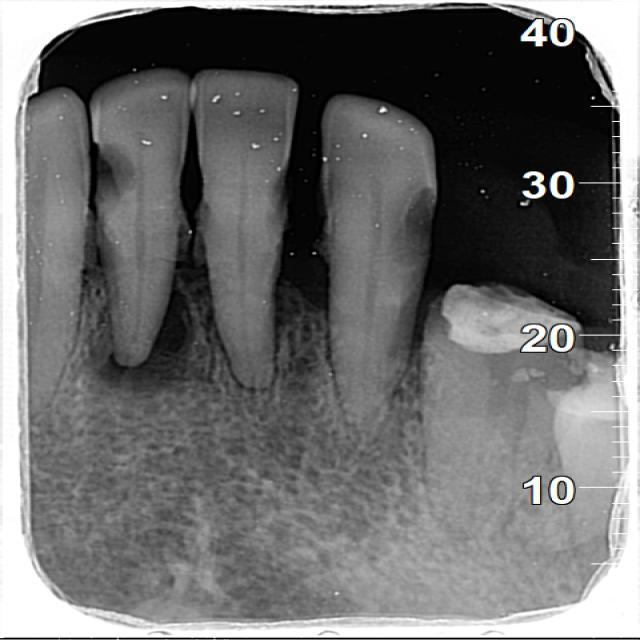individual-tooth-8tto: (325, 97, 439, 424), (196, 67, 297, 386), (93, 69, 195, 364)
